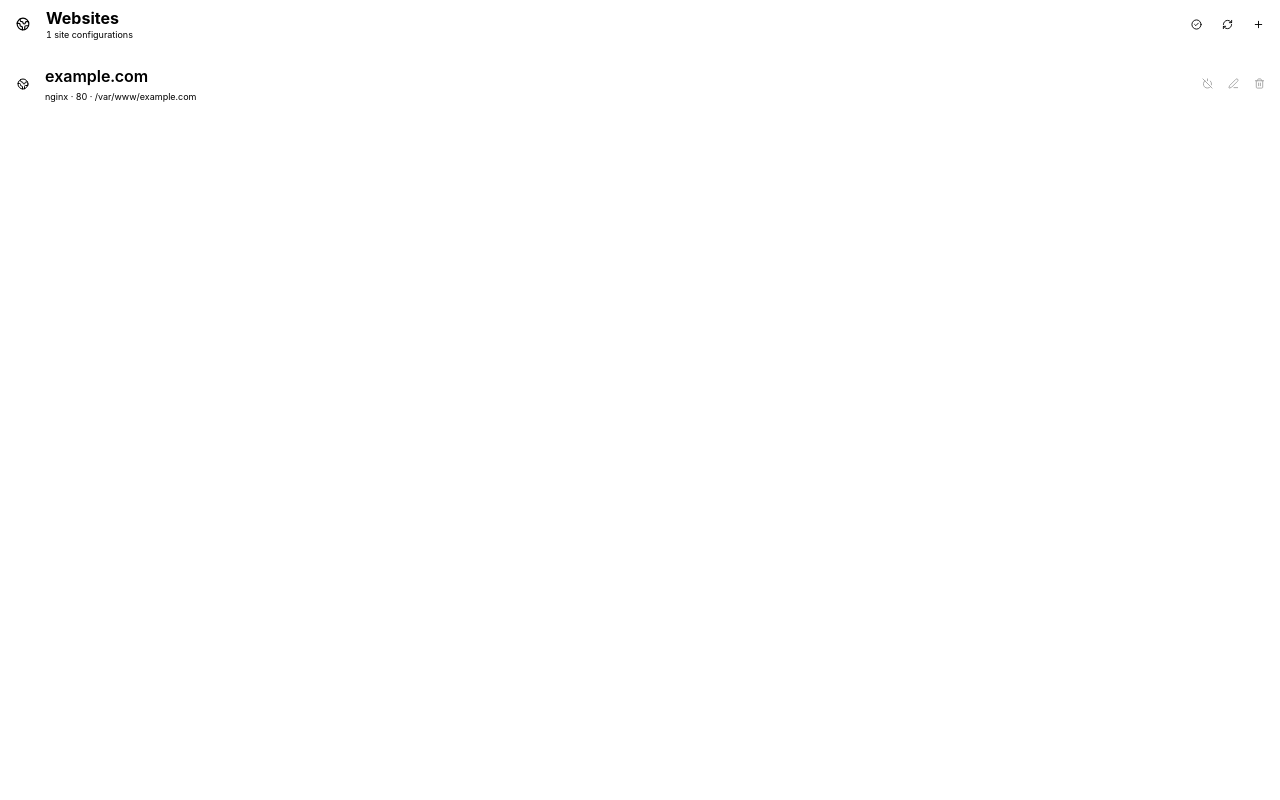
Test case: WebsitePanel discard prompt › keeps the draft when the user chooses to keep editing
The image size is (1280, 800).
Click the button titled "Edit site" at (1233, 84), box [1221,72,1245,96]
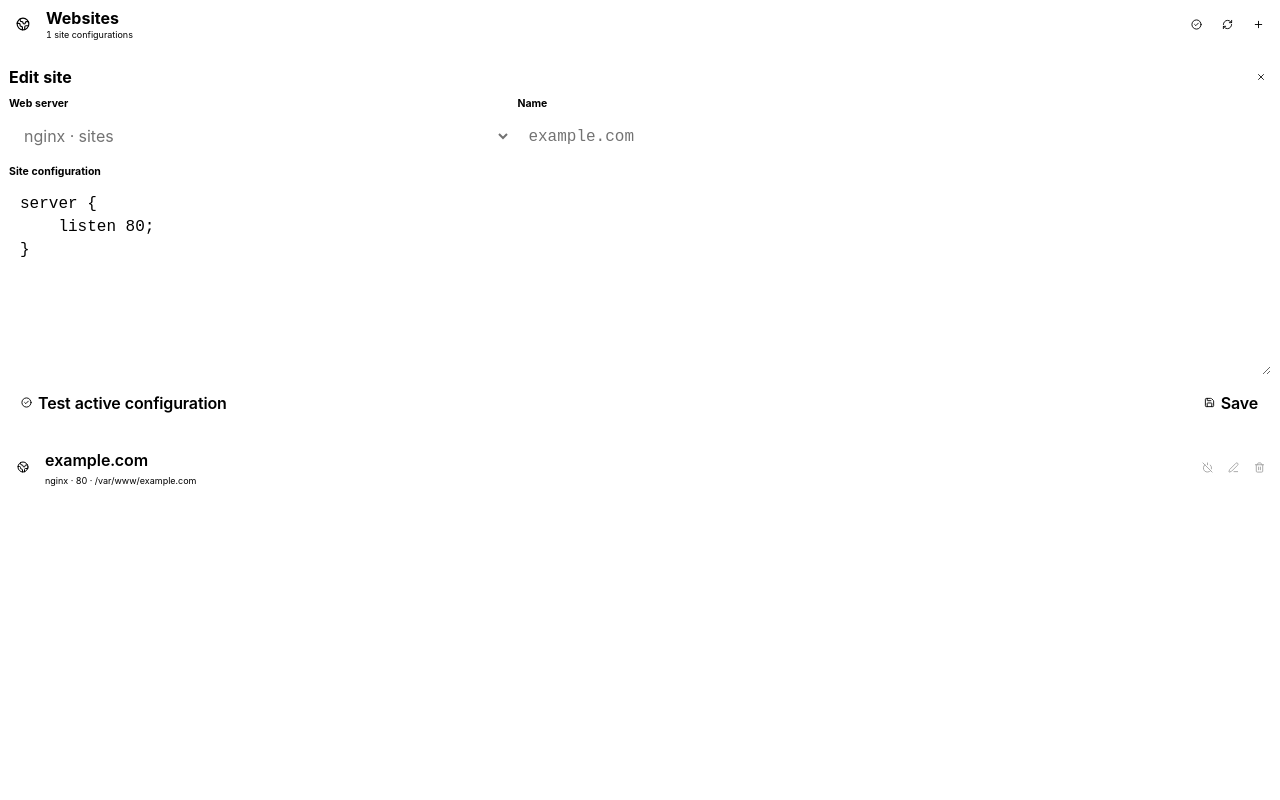
Replace the text in the text box with class "site-config-input" with "changed" at (640, 280), box [9,184,1271,374]
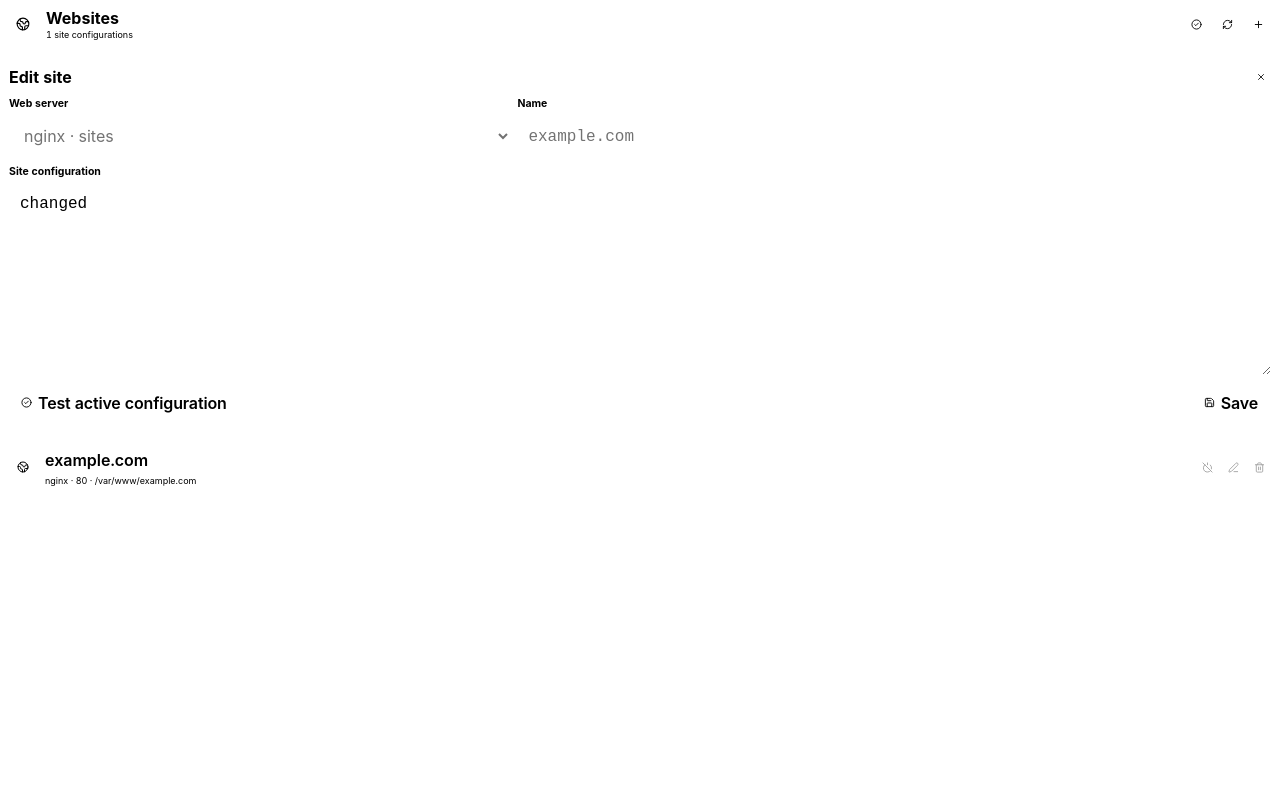
Click the button titled "Close" at (1261, 77), box [1251,67,1271,87]
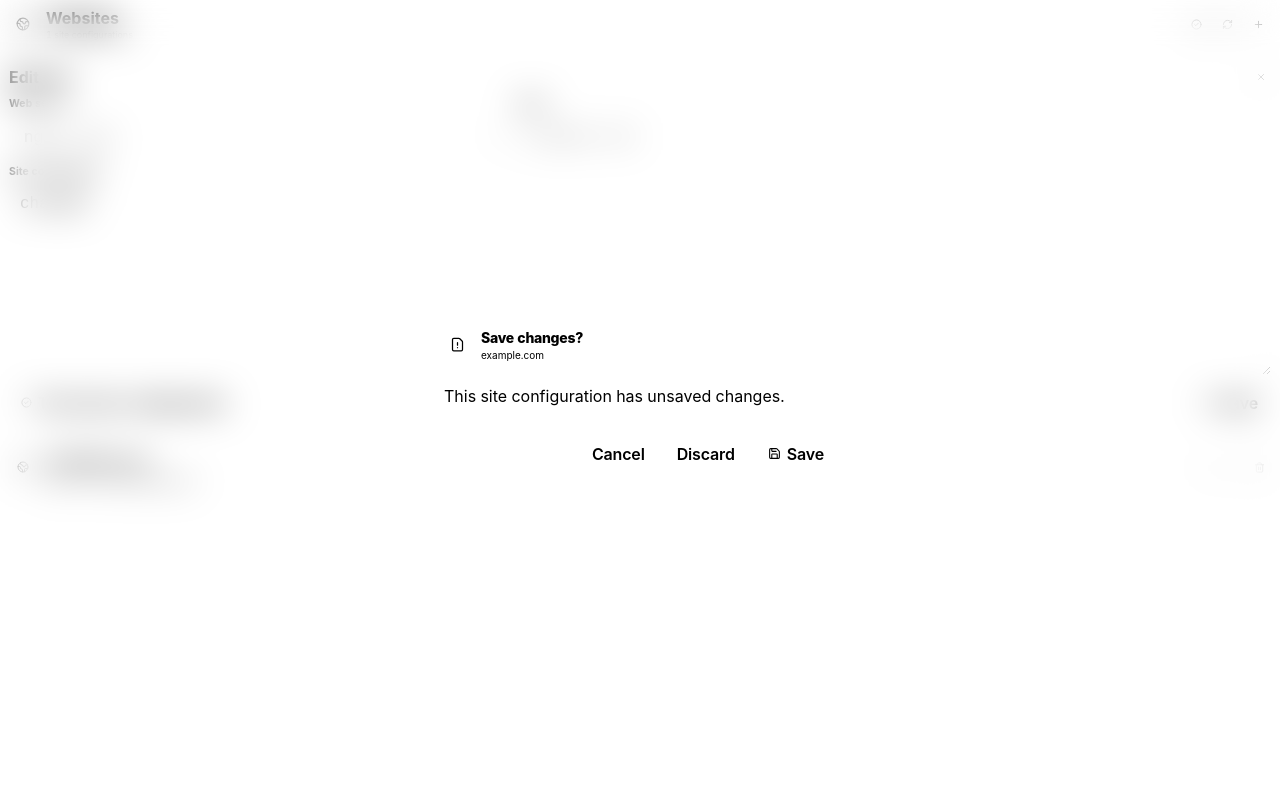
Click the button "Cancel" at (618, 454), box [580,434,657,472]
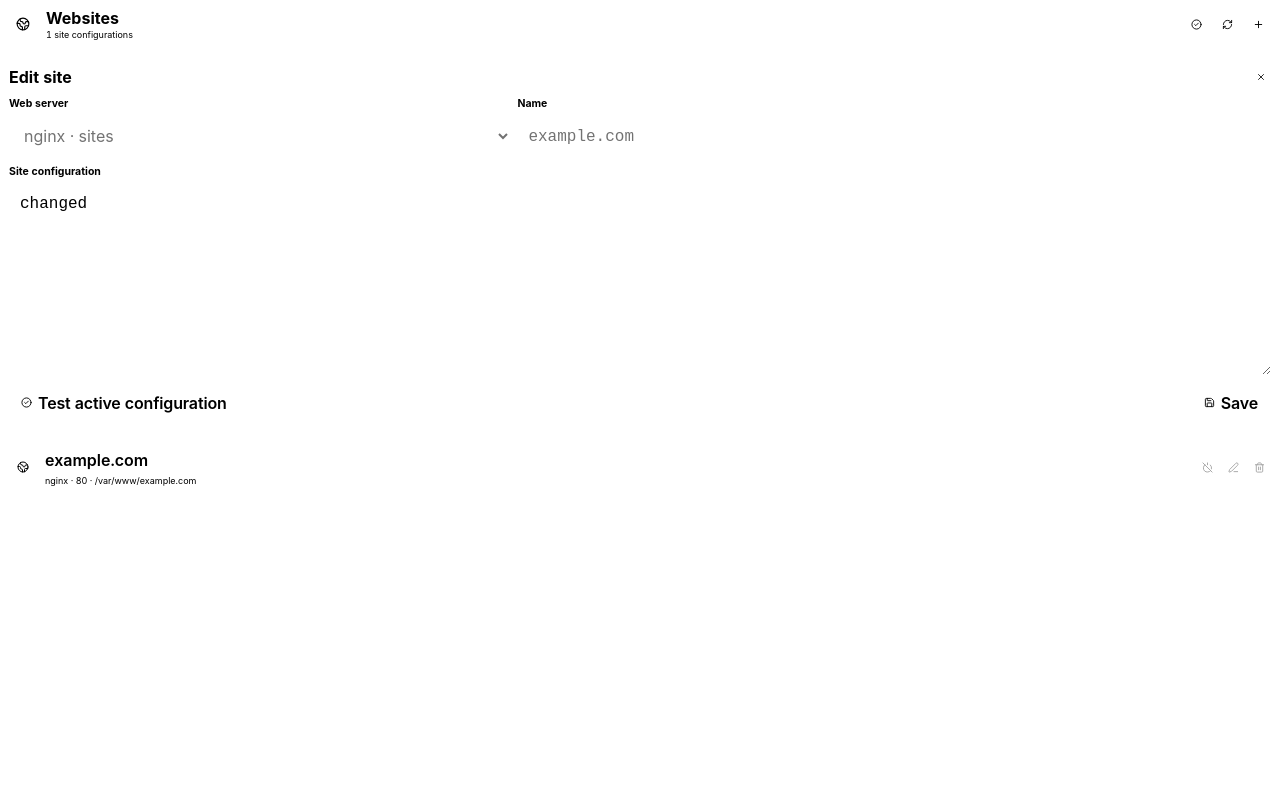
Expected: the dialog is gone
